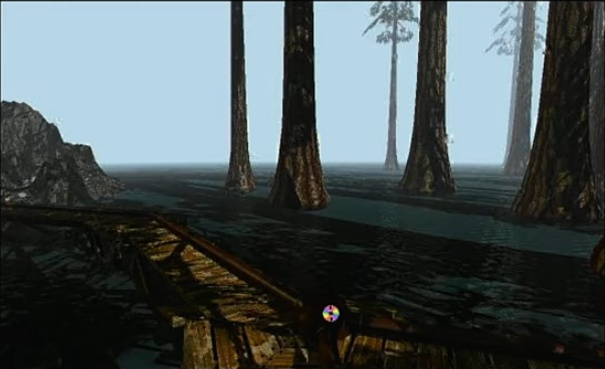Waiting: (317, 301, 342, 324)
